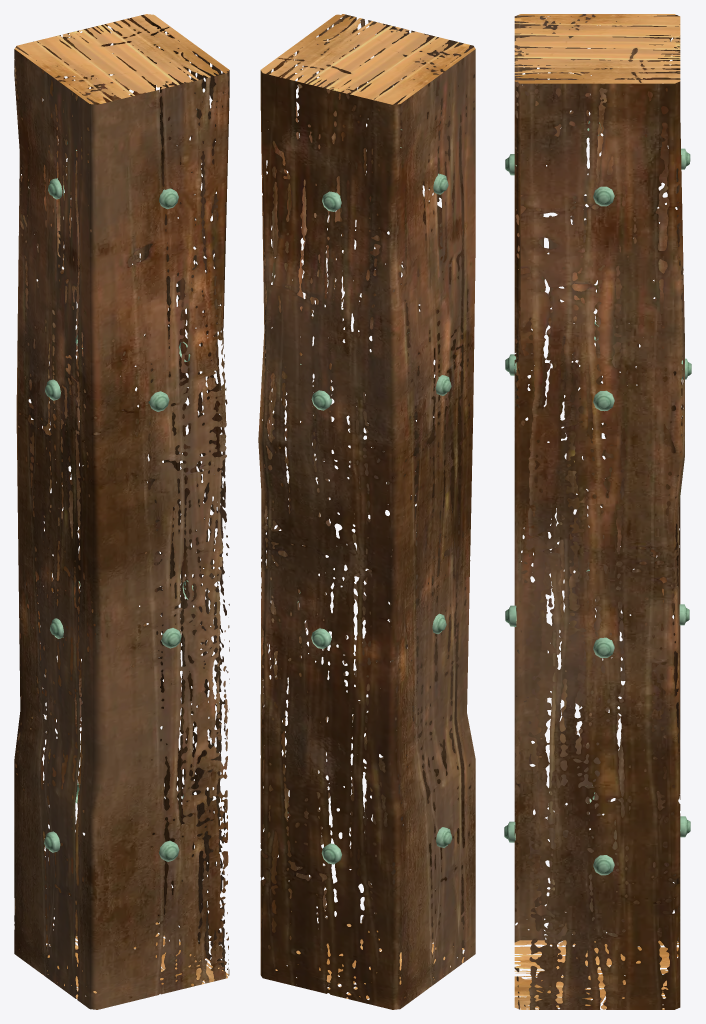
The picture shows the model from 3 angles, left to right: view 1: azimuth 30°, elevation 25°; view 2: azimuth 150°, elevation 25°; view 3: azimuth 270°, elevation 25°; orthographic projection. The views are drawn at different scales.
Visible parts, largest first — view 1: SM_BB_T4_Beam_Thick_Large_Vertical_LOD0; view 2: SM_BB_T4_Beam_Thick_Large_Vertical_LOD0; view 3: SM_BB_T4_Beam_Thick_Large_Vertical_LOD0.
Boxes of the visible parts, x1,y1,x2,y2 form: SM_BB_T4_Beam_Thick_Large_Vertical_LOD0: [14, 14, 229, 1009]; SM_BB_T4_Beam_Thick_Large_Vertical_LOD0: [258, 14, 475, 1009]; SM_BB_T4_Beam_Thick_Large_Vertical_LOD0: [504, 14, 691, 1009].
Size of the model in its own units: 0.5464 by 3.01 by 0.5521.
2 materials, 2 textured.
